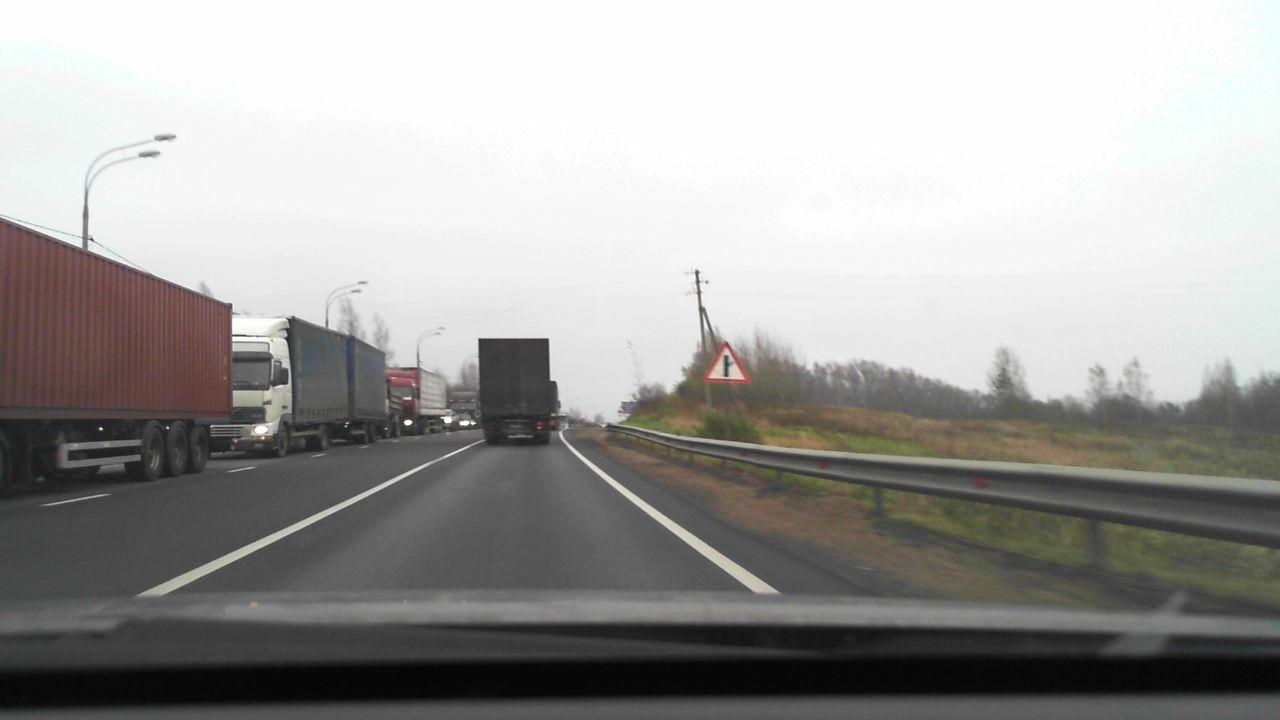2_3_4: (701, 340, 751, 383)
